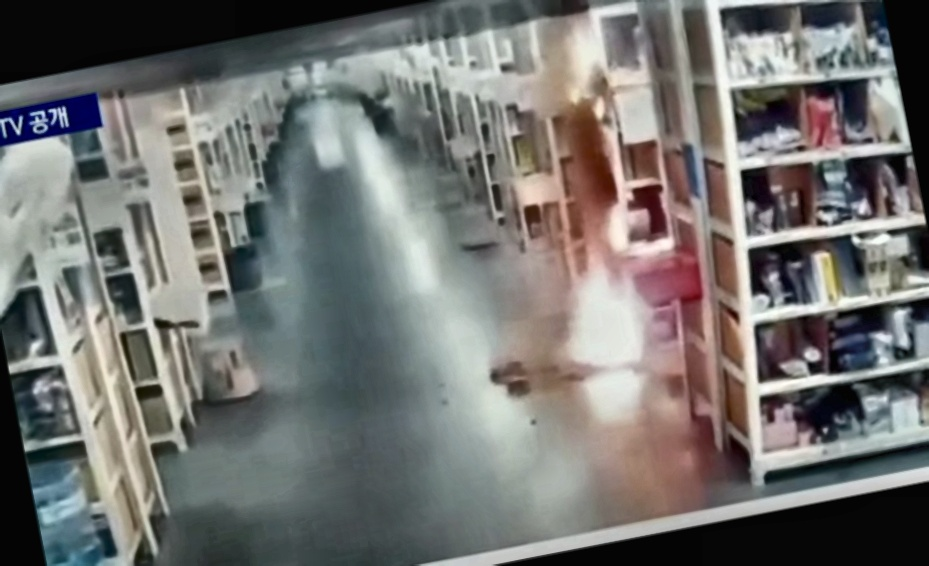fire: (545, 250, 667, 378), (532, 4, 626, 124)
